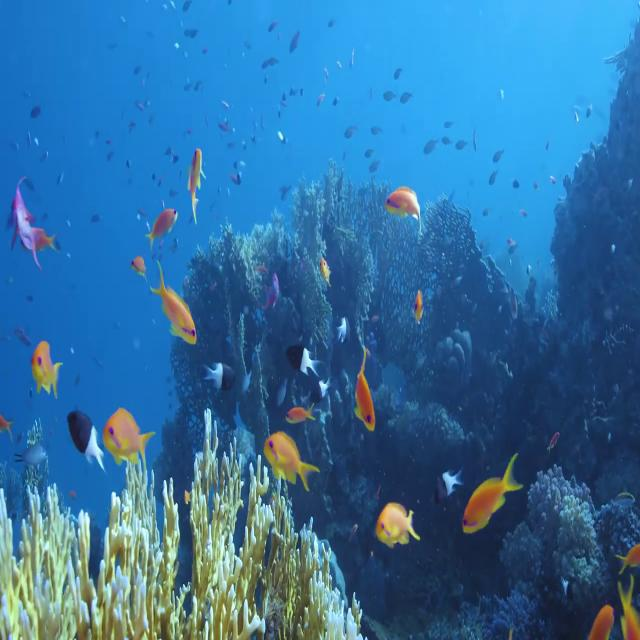fish: (461, 461, 522, 533), (150, 268, 197, 344), (263, 432, 316, 497), (104, 410, 154, 466), (66, 407, 105, 470), (353, 356, 378, 438), (374, 502, 417, 548), (384, 188, 423, 238), (29, 339, 60, 395), (284, 336, 319, 377), (144, 205, 178, 245)
